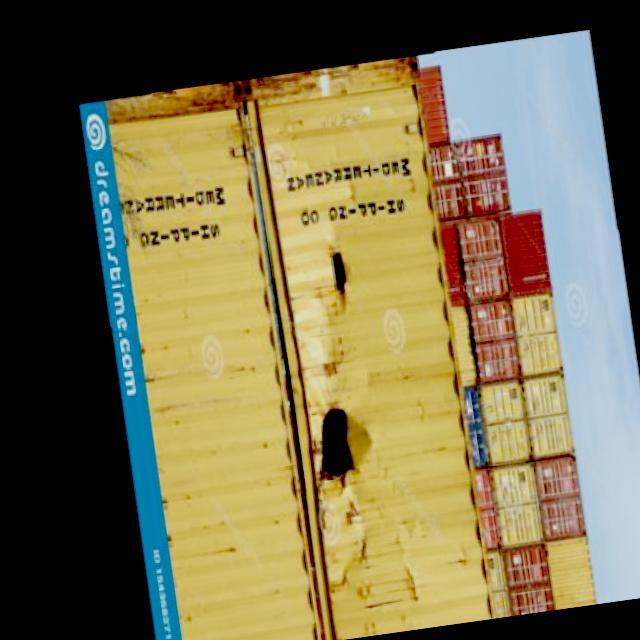hole: (304, 385, 382, 495), (314, 238, 373, 312)
rust: (111, 53, 430, 168), (318, 499, 402, 606)
